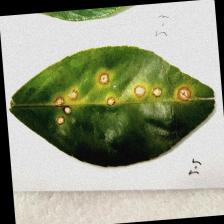canker: (40, 70, 191, 139)
